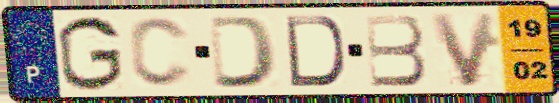B: (361, 12, 430, 89)
C: (126, 15, 195, 90)
D: (206, 14, 281, 90), (282, 14, 349, 89)
G: (54, 13, 125, 93)
V: (426, 10, 500, 90)
